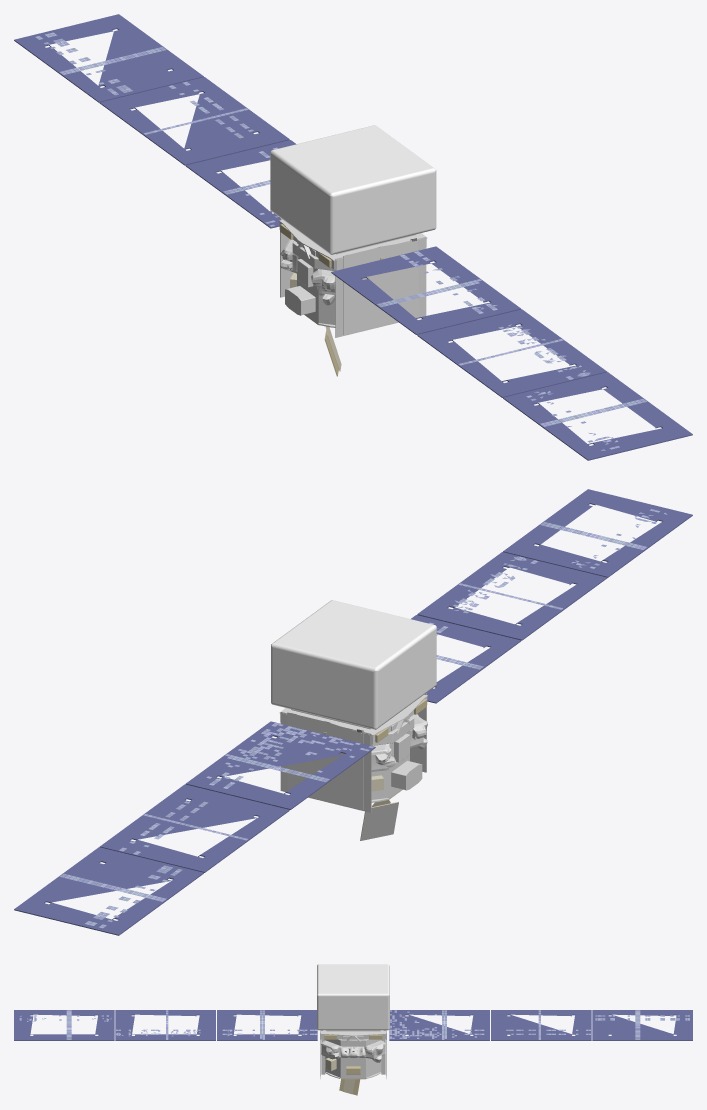
The model's file is fermi.glb.
3 renders of one model, top to bottom at view 1: azimuth 30°, elevation 25°; view 2: azimuth 150°, elevation 25°; view 3: azimuth 270°, elevation 25°, orthographic. The views are drawn at different scales.
Bounding box in the file's own units: 7.76 × 12.1 × 62.31.
